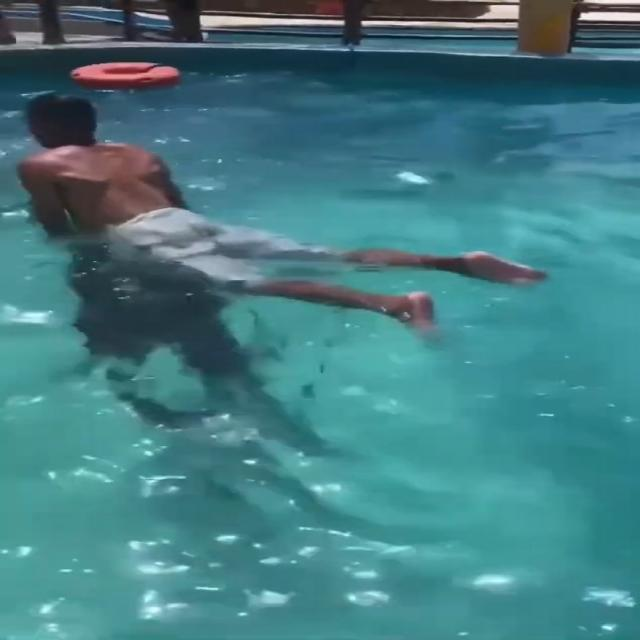swimming: (9, 90, 554, 336)
